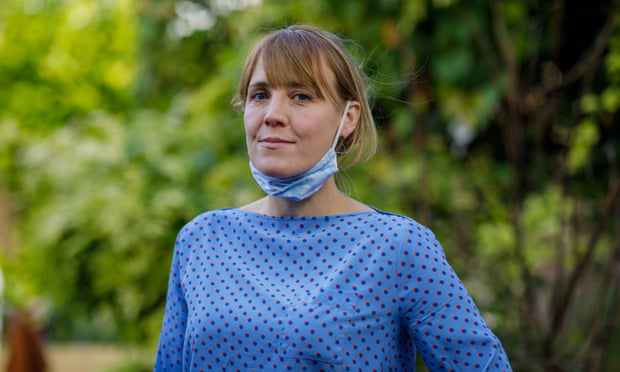mask_weared_incorrect: (242, 76, 327, 200)
